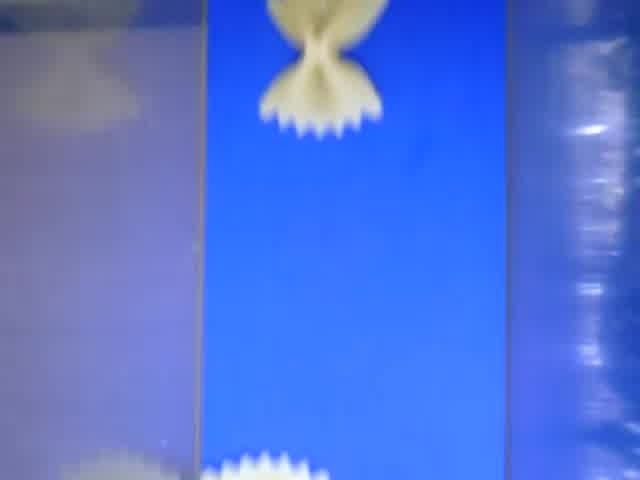farfalle: (257, 1, 385, 140), (195, 448, 330, 480)
